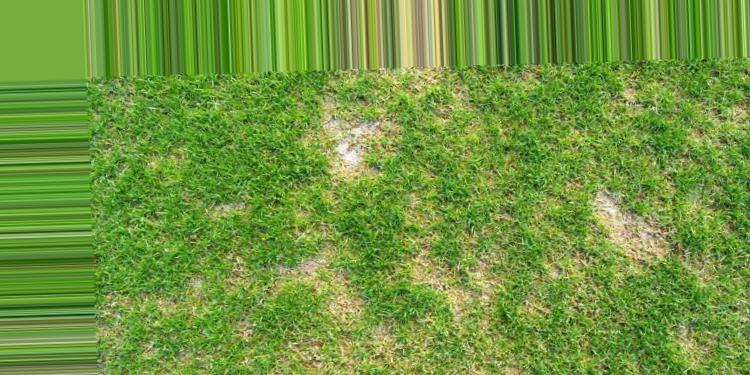patch: (595, 197, 656, 261), (330, 130, 382, 169)
